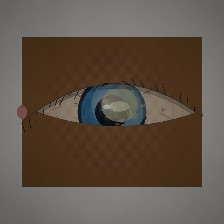corneal_ulcer: (90, 81, 150, 129)
